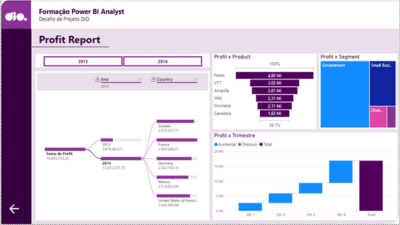

The page's visual inventory and layout, read from the dashboard file:
{"tool":"powerbi","page":{"name":"Profit","canvas":[1280,720],"ordinal":1},"visuals":[{"type":"shape","box":[0,0,1280,720],"z":0},{"type":"shape","box":[0,0,96.7,720],"z":1000},{"type":"waterfallChart","title":"Profit x Trimestre","fields":{"Y":["Sum(financials.Profit)"],"Category":["financials.Date.Variation.Hierarquia de datas.Trimestre"]},"box":[679.2,425,593.8,283.3],"z":2000},{"type":"treemap","title":"Profit x Segment","fields":{"Values":["Sum(financials.Profit)"],"Group":["financials.Segment"]},"box":[1020.8,171.9,252.1,243.8],"z":3000},{"type":"decompositionTreeVisual","fields":{"ExplainBy":["financials.Date.Variation.Hierarquia de datas.Ano","financials.Country"],"Analyze":["Sum(financials.Profit)"]},"box":[110,228.3,560,480],"z":4000},{"type":"funnel","title":"Profit x Product","fields":{"Category":["financials.Product"],"Y":["Sum(financials.Profit)"]},"box":[679,171.6,334.6,244.4],"z":5000},{"type":"shape","box":[95,0,1185,91.7],"z":6000},{"type":"shape","box":[94.4,133.2,466.7,39.2],"z":6000,"group":"g1"},{"type":"textbox","box":[115.2,98.1,441.2,56.9],"z":7000,"group":"g1"},{"type":"slicer","fields":{"Values":["financials.Date.Variation.Hierarquia de datas.Ano"]},"box":[110,173.3,560,43.3],"z":7000},{"type":"group","id":"g1","title":"Grupo 1","box":[94.4,98.1,466.7,74.4],"z":8000},{"type":"shape","box":[0,0,96.1,92.2],"z":9000},{"type":"textbox","box":[115.7,15.7,354.9,60.8],"z":10000},{"type":"image","box":[8,12,80,80],"z":11000},{"type":"actionButton","box":[21.3,651.1,53.2,40.4],"z":12000}]}

Visuals, with their boxes on the page's 1280x720 design canvas (x1, y1, x2, y2). These are canvas units, not pixel positions in the 400x225 screenshot, which may show the page scaled, cropped or inside an application window:
shape: 0, 0, 1280, 720
shape: 0, 0, 97, 720
"Profit x Trimestre" waterfallChart: 679, 425, 1273, 708
"Profit x Segment" treemap: 1021, 172, 1273, 416
decompositionTreeVisual - financials.Date.Variation.Hierarquia de datas.Ano x financials.Country: 110, 228, 670, 708
"Profit x Product" funnel: 679, 172, 1014, 416
shape: 95, 0, 1280, 92
shape: 94, 133, 561, 172
textbox: 115, 98, 556, 155
slicer - financials.Date.Variation.Hierarquia de datas.Ano: 110, 173, 670, 217
"Grupo 1" group: 94, 98, 561, 172
shape: 0, 0, 96, 92
textbox: 116, 16, 471, 76
image: 8, 12, 88, 92
actionButton: 21, 651, 74, 692
